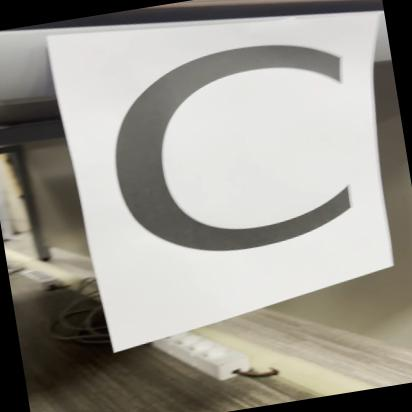seat: (53, 0, 396, 321)
